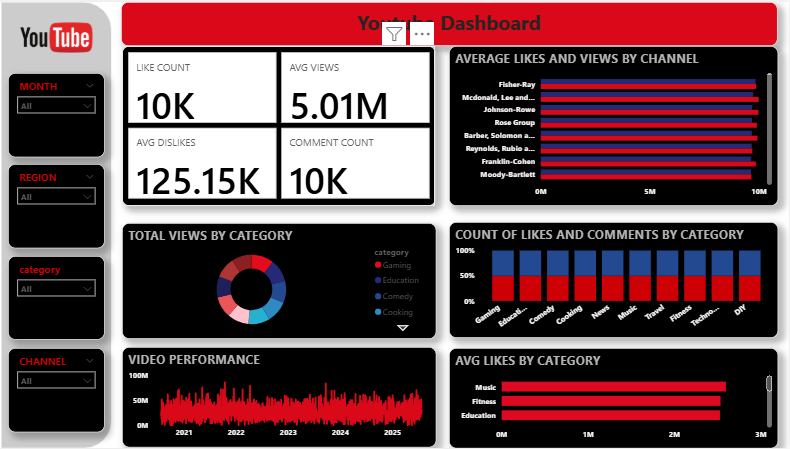

Layout of this report page (visuals, bound fields, positions):
{"tool":"powerbi","page":{"name":"Page 1","canvas":[1280,720],"ordinal":0},"visuals":[{"type":"shape","box":[9.9,0,178.6,720.1],"z":0},{"type":"image","box":[32.8,0,132.8,115.6],"z":1000},{"type":"textbox","box":[203.6,0,1059.2,70.7],"z":2000},{"type":"lineChart","title":"VIDEO PERFORMANCE","fields":{"Category":["youtube_dataset_10000_rows.published_at"],"Y":["youtube_dataset_10000_rows.views"]},"box":[204.1,557.1,507.5,161.6],"z":3000},{"type":"donutChart","title":"TOTAL VIEWS BY CATEGORY","fields":{"Y":["youtube_dataset_10000_rows.views"],"Category":["youtube_dataset_10000_rows.category"]},"box":[204.1,355.8,507.5,187.1],"z":4000},{"type":"cardVisual","fields":{"Data":["youtube_dataset_10000_rows.likes","youtube_dataset_10000_rows.views","youtube_dataset_10000_rows.dislikes","youtube_dataset_10000_rows.comments"]},"box":[204.1,70.9,506,258],"z":5000},{"type":"clusteredBarChart","title":"AVG LIKES BY CATEGORY","fields":{"Y":["youtube_dataset_10000_rows.likes"],"Category":["youtube_dataset_10000_rows.category"]},"box":[732.9,557.4,530.9,162.2],"z":6000},{"type":"hundredPercentStackedColumnChart","title":"COUNT OF LIKES AND COMMENTS BY CATEGORY","fields":{"Category":["youtube_dataset_10000_rows.category"],"Y":["youtube_dataset_10000_rows.comments","youtube_dataset_10000_rows.likes"]},"box":[732.9,355.4,530.9,187.3],"z":6001},{"type":"clusteredBarChart","title":"AVERAGE LIKES AND VIEWS BY CHANNEL","fields":{"Y":["youtube_dataset_10000_rows.likes","youtube_dataset_10000_rows.views"],"Category":["youtube_dataset_10000_rows.channel_title"]},"box":[732.9,70.8,530.9,258.1],"z":6002},{"type":"slicer","fields":{"Values":["youtube_dataset_10000_rows.published_at.Variation.Date Hierarchy.Month"]},"box":[20.6,115,156.3,135.7],"z":6003},{"type":"slicer","fields":{"Values":["youtube_dataset_10000_rows.region"]},"box":[20.6,261,156.3,135.7],"z":6004},{"type":"slicer","fields":{"Values":["youtube_dataset_10000_rows.category"]},"box":[20.6,410,156.3,135],"z":6005},{"type":"slicer","fields":{"Values":["youtube_dataset_10000_rows.channel_title"]},"box":[20.6,557.4,156.3,135.7],"z":6006}]}

Visuals, with their boxes in screenshot pixels (x1, y1, x2, y2), scaled from the page's 1280x720 canvas onto the 790x449 screenshot:
shape: box=[6, 0, 116, 448]
image: box=[20, 0, 102, 72]
textbox: box=[126, 0, 779, 44]
"VIDEO PERFORMANCE" lineChart: box=[126, 347, 439, 448]
"TOTAL VIEWS BY CATEGORY" donutChart: box=[126, 222, 439, 339]
cardVisual - youtube_dataset_10000_rows.likes x youtube_dataset_10000_rows.views: box=[126, 44, 438, 205]
"AVG LIKES BY CATEGORY" clusteredBarChart: box=[452, 348, 780, 448]
"COUNT OF LIKES AND COMMENTS BY CATEGORY" hundredPercentStackedColumnChart: box=[452, 222, 780, 338]
"AVERAGE LIKES AND VIEWS BY CHANNEL" clusteredBarChart: box=[452, 44, 780, 205]
slicer - youtube_dataset_10000_rows.published_at.Variation.Date Hierarchy.Month: box=[13, 72, 109, 156]
slicer - youtube_dataset_10000_rows.region: box=[13, 163, 109, 247]
slicer - youtube_dataset_10000_rows.category: box=[13, 256, 109, 340]
slicer - youtube_dataset_10000_rows.channel_title: box=[13, 348, 109, 432]
